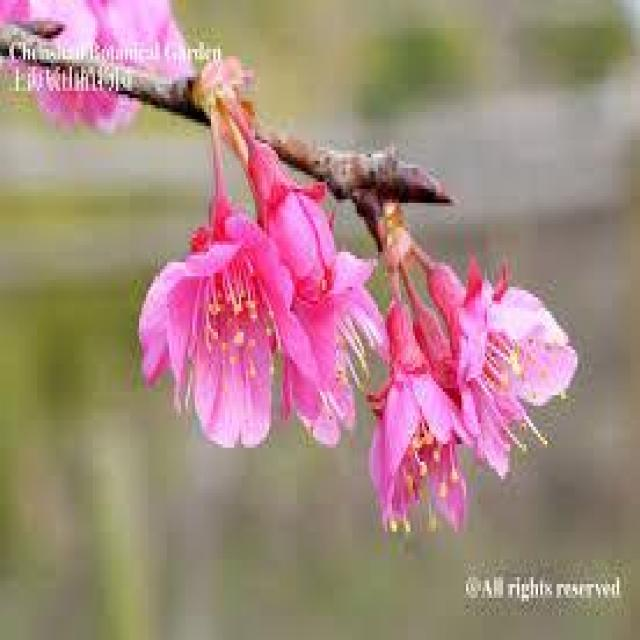organic waste: (401, 224, 591, 479), (136, 187, 307, 456), (329, 227, 473, 532), (246, 149, 385, 439)
